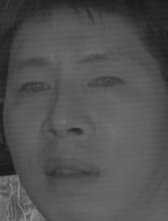eye: (87, 72, 124, 94), (17, 78, 53, 98)
mouth: (39, 156, 100, 191)
